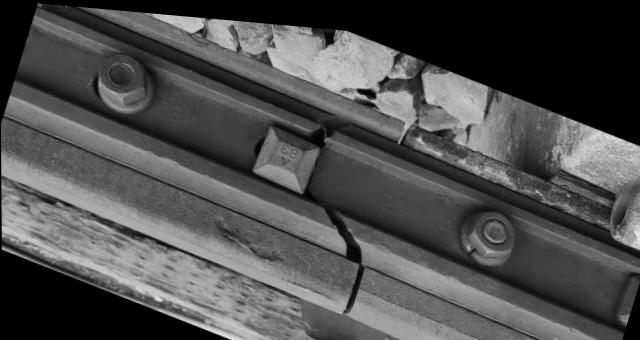person: (303, 234, 407, 337), (365, 89, 442, 162)
